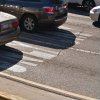crosswalk: (0, 29, 93, 73)
